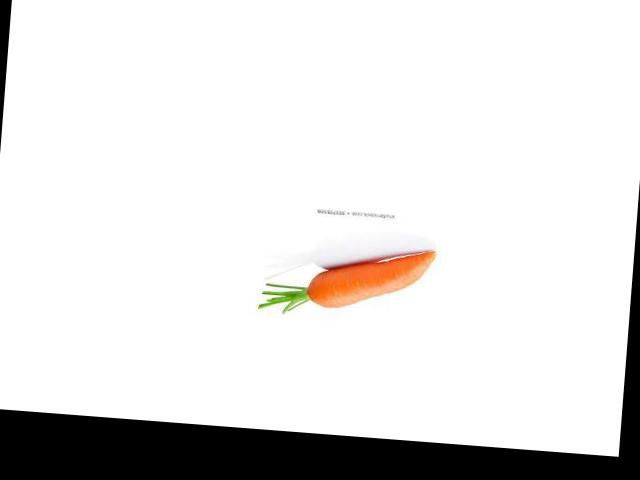carrot: (302, 239, 441, 320)
